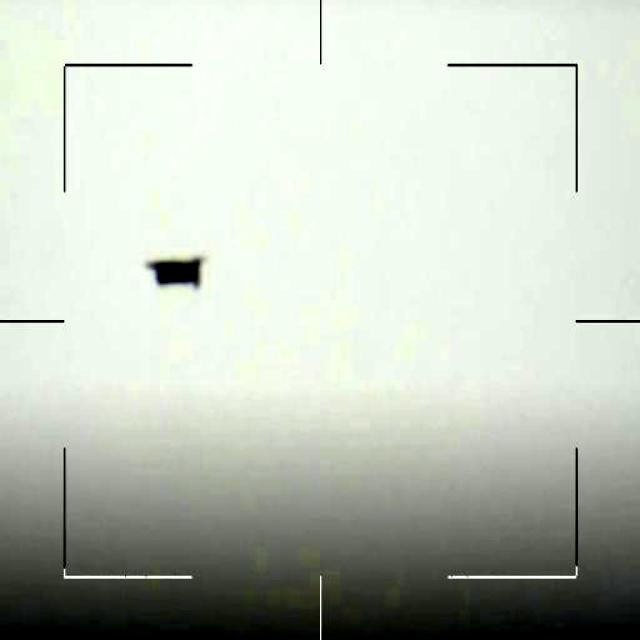bird: (144, 249, 205, 290)
